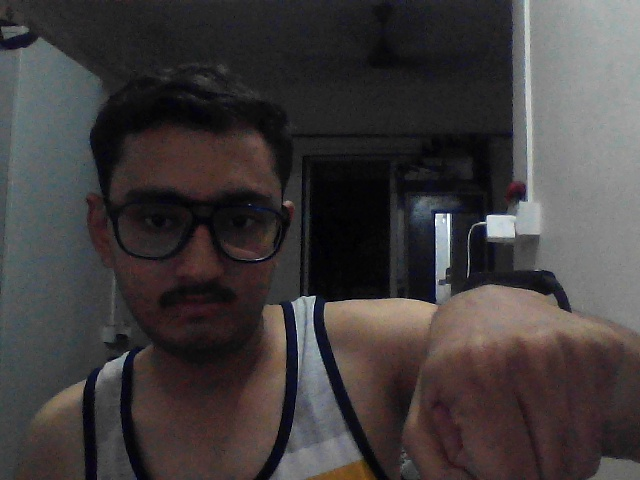Yes: (374, 248, 640, 480)
